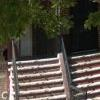Tree: (29, 5, 100, 50)
